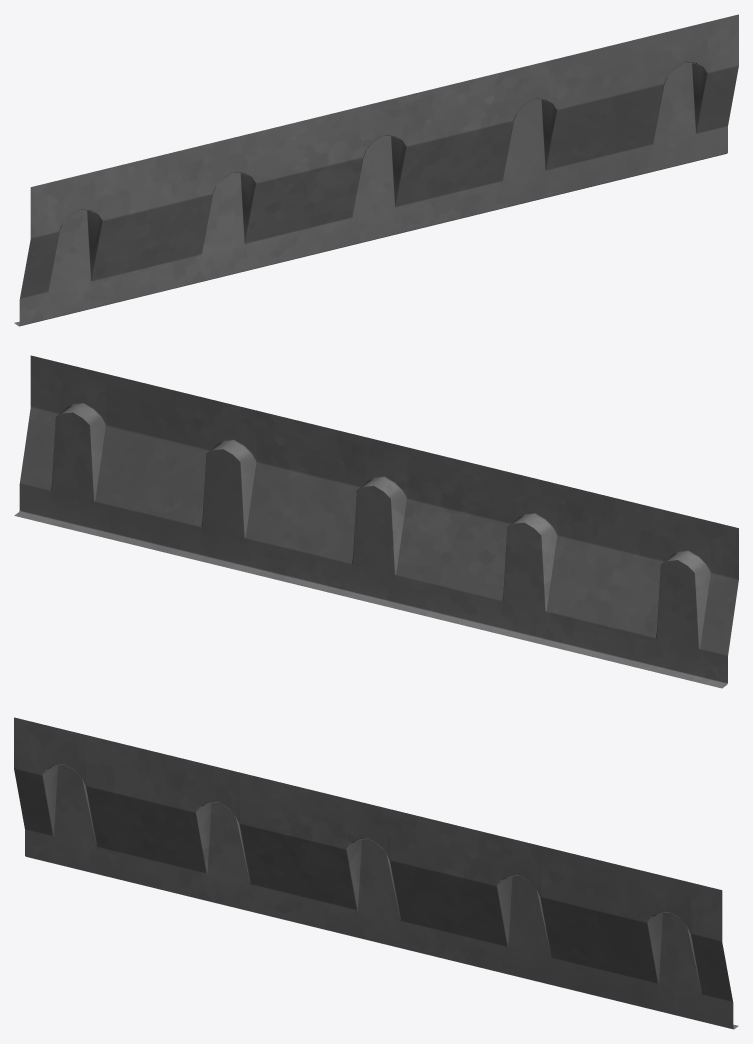
File: TrimV3_Main.fbx
3 views of the same model, one above another, from view 1: azimuth 30°, elevation 25°; view 2: azimuth 150°, elevation 25°; view 3: azimuth 330°, elevation 25° (orthographic).
Visible parts, largest first — view 1: TrimV3_Main; view 2: TrimV3_Main; view 3: TrimV3_Main.
Part boxes in pixels (x1,y1,x2,y2): TrimV3_Main: [14, 14, 738, 326]; TrimV3_Main: [14, 355, 738, 688]; TrimV3_Main: [14, 717, 738, 1029].
Bounding box in the file's own units: 500 × 99.88 × 20.55.
Materials: 1 (1 with a texture image).
